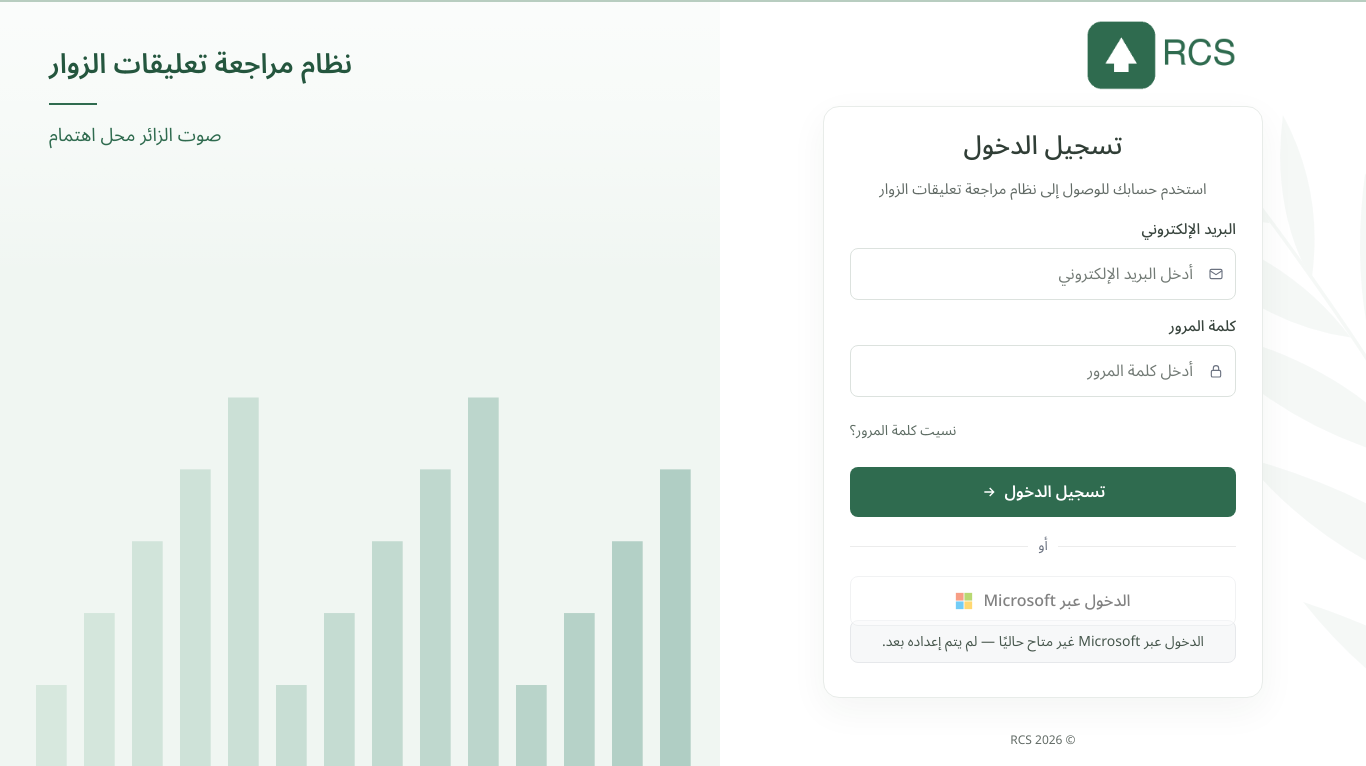
Scenario: Reviewer UI › forgot-password shows a truthful contact-admin message, not a fake reset flow
The width and height of the screenshot is (1366, 766).
Check: the text "تواصل مع مسؤول النظام" is not shown
Click the button "نسيت كلمة المرور؟" at point(903, 431), box [850,409,956,453]
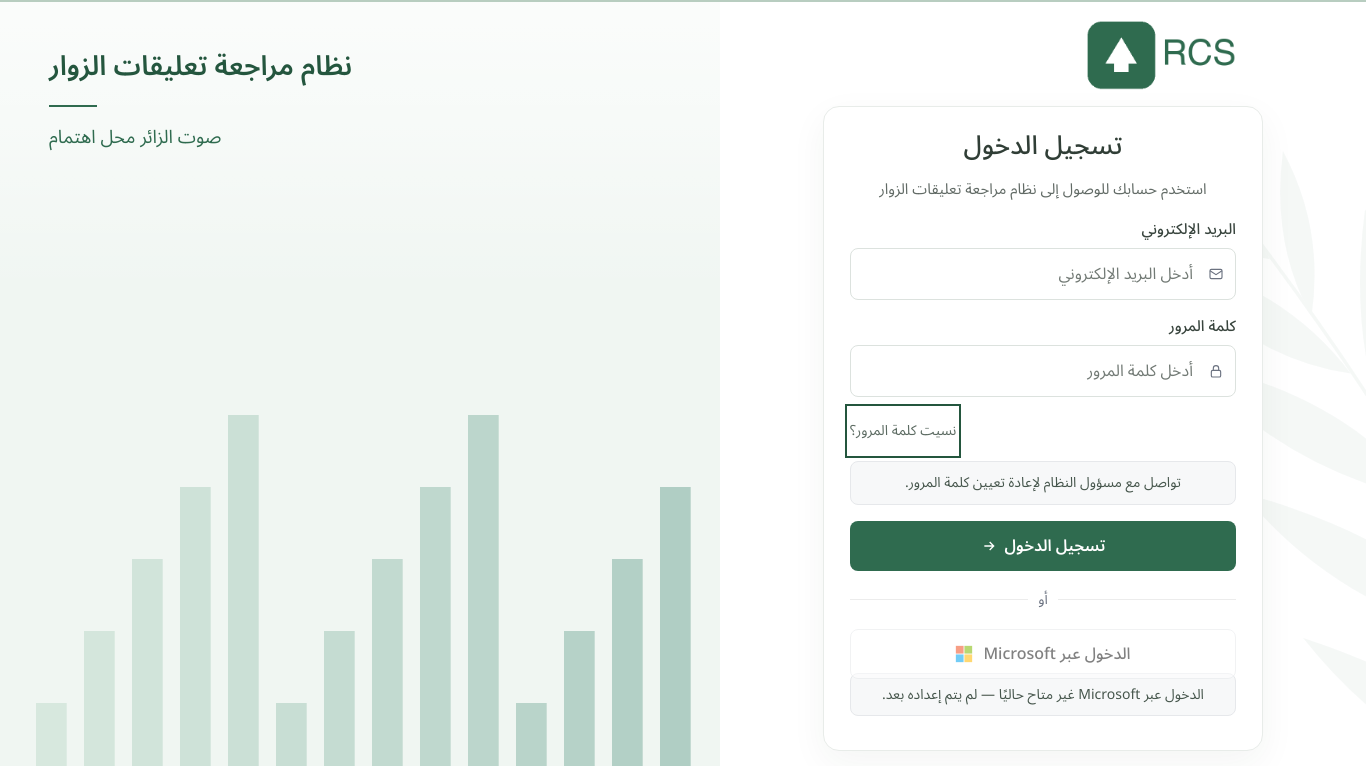
Check: the text "تواصل مع مسؤول النظام لإعادة تعيين كلمة المرور." is shown, box [850,461,1236,505]
# Toggles back off.
Click the button "نسيت كلمة المرور؟" at point(903, 431), box [850,409,956,453]
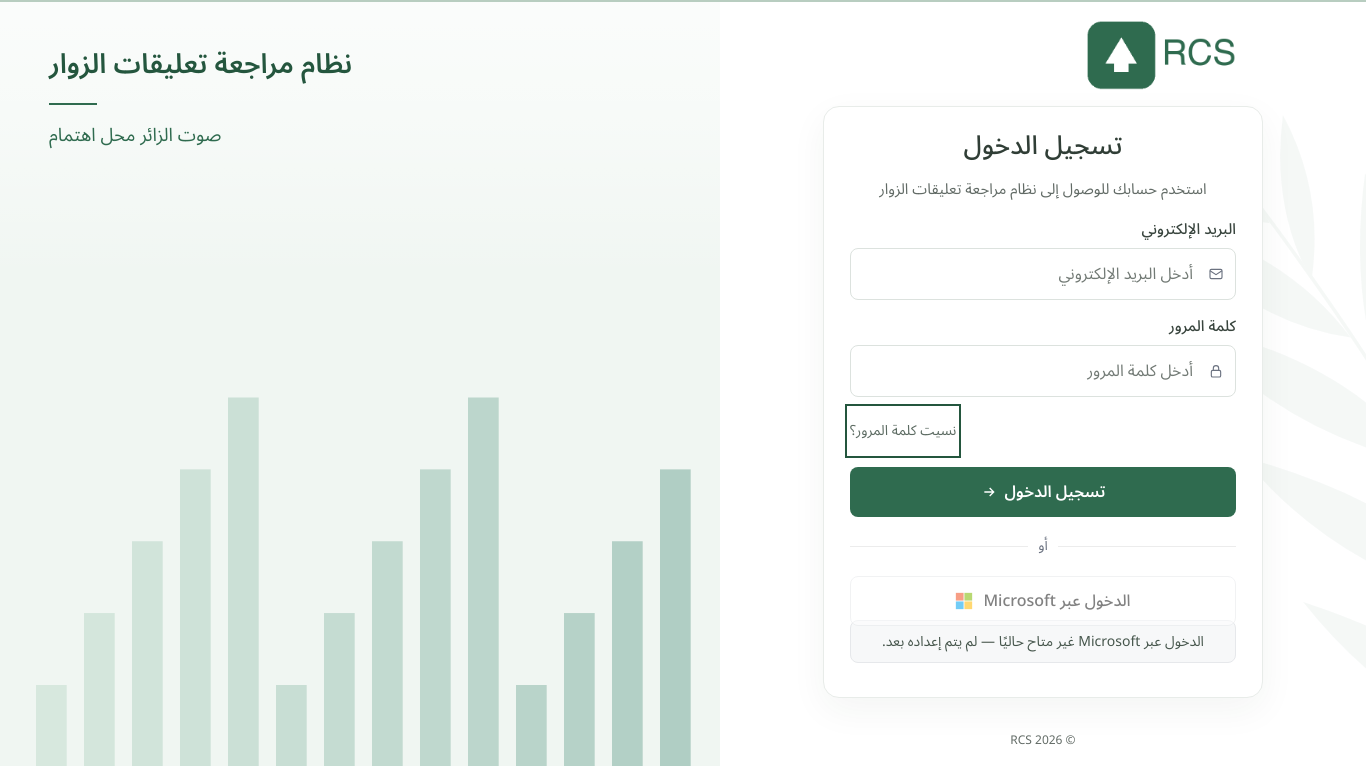
Check: the text "تواصل مع مسؤول النظام لإعادة تعيين كلمة المرور." is gone
